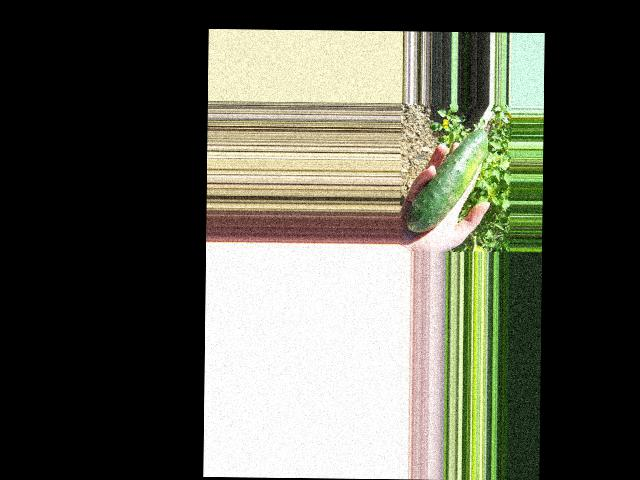cucumber: (406, 128, 487, 232)
